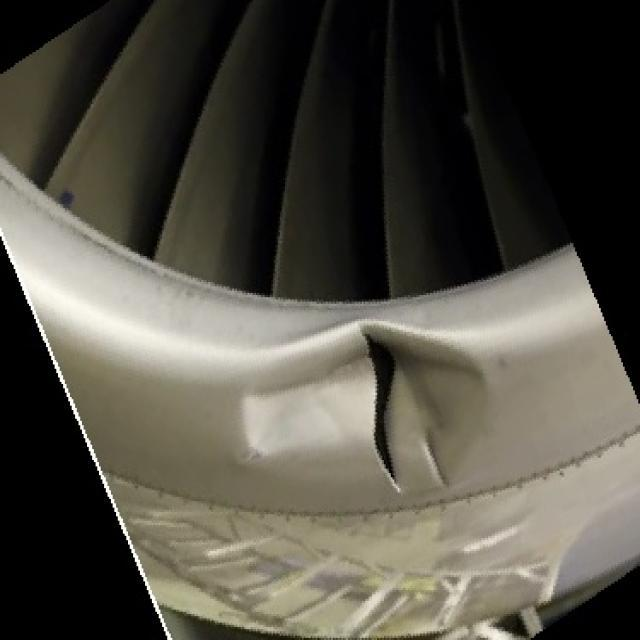crack: (355, 320, 418, 502)
